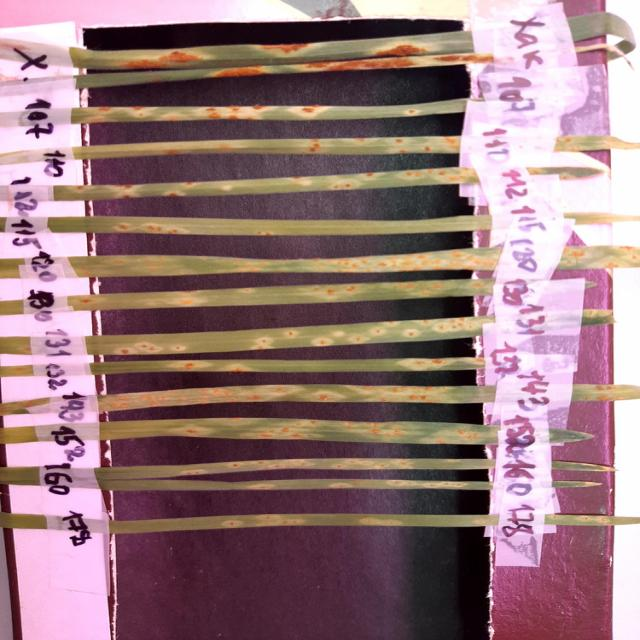wheat-stemrust: (67, 248, 502, 312), (84, 317, 493, 375), (69, 31, 474, 87), (51, 167, 479, 203), (94, 458, 494, 492), (99, 418, 498, 445), (98, 385, 496, 412), (69, 99, 467, 125), (45, 215, 491, 237), (71, 136, 460, 161), (108, 514, 497, 534), (559, 246, 640, 271), (572, 385, 640, 403)
